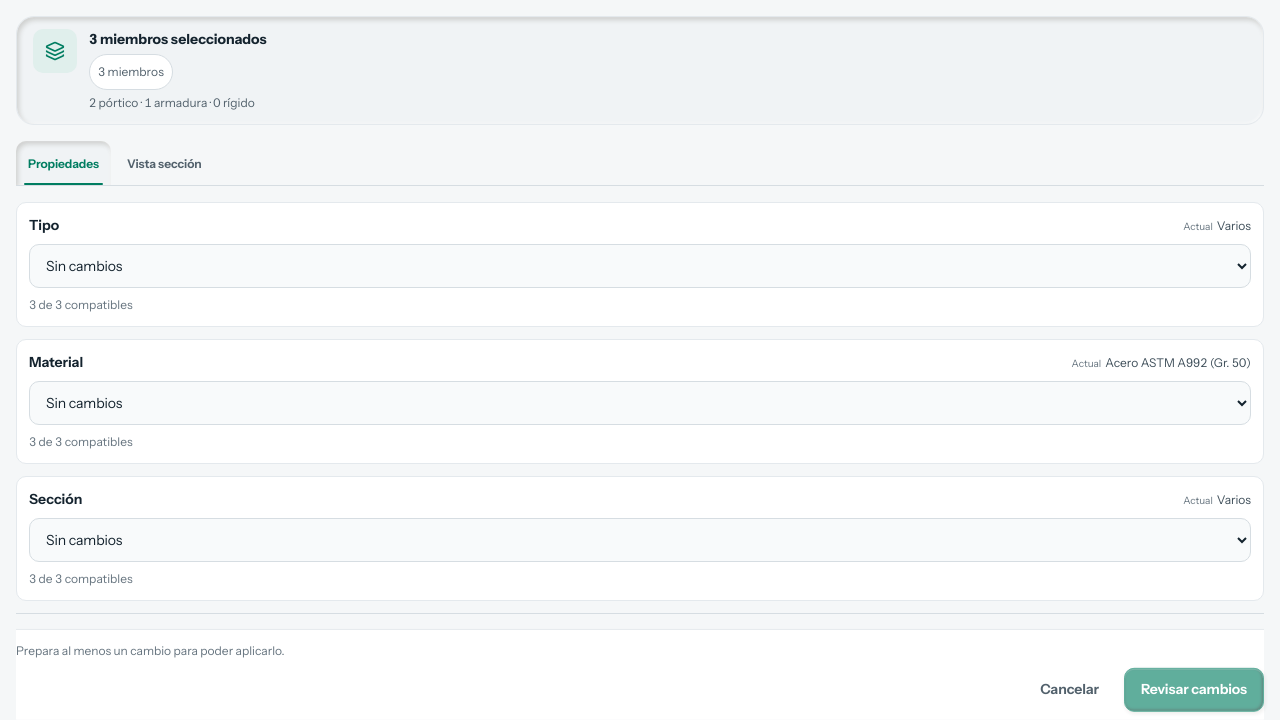
it: BulkEditPanel · review before applying › does not apply straight from the editing footer
The width and height of the screenshot is (1280, 720).
Select "W12x53" in the dropdown labelled "Sección" at (640, 540), box x1=29 y1=518 x2=1251 y2=562
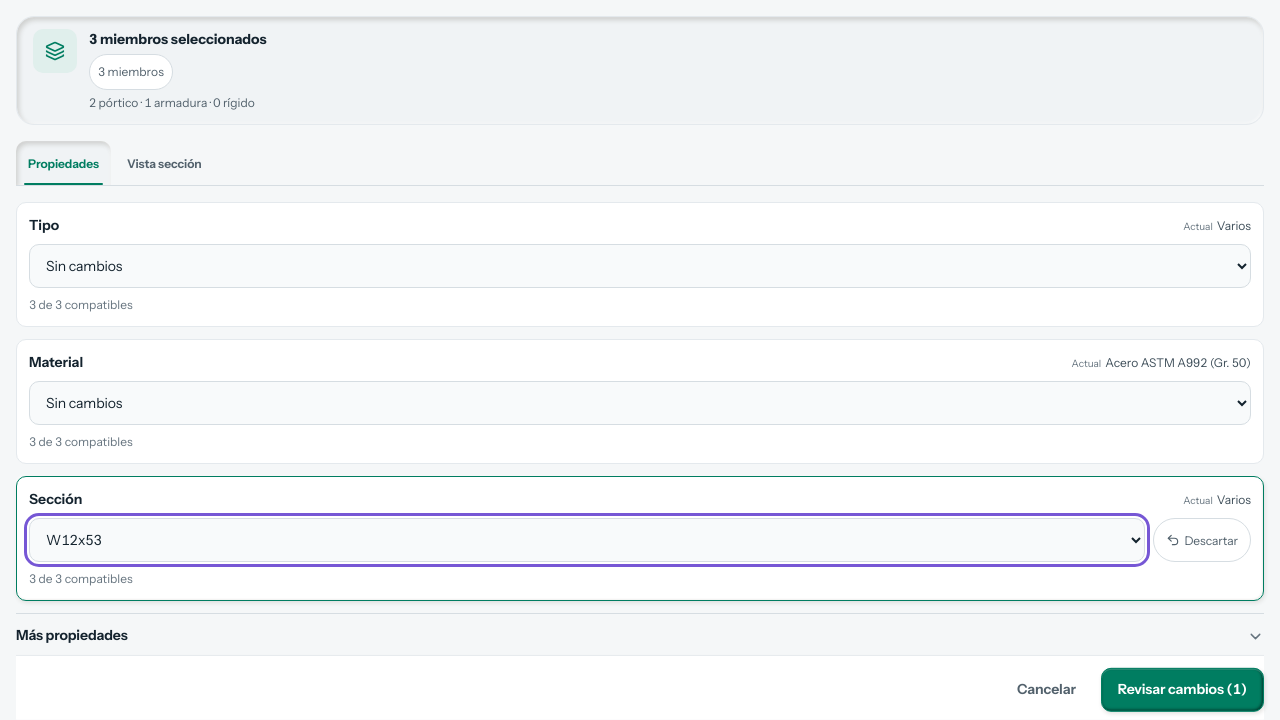
Click the button "Revisar cambios (1)" at (1182, 690), box x1=1101 y1=668 x2=1264 y2=712
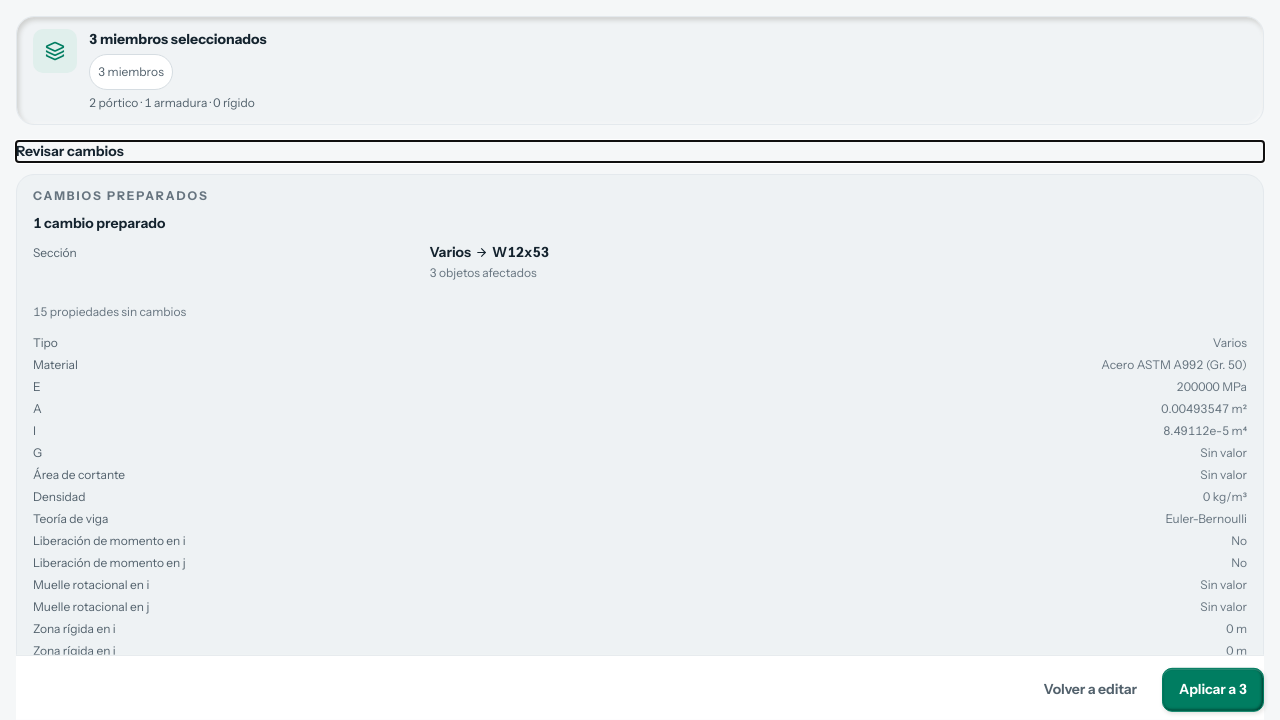
Expected: the element "Revisar cambios" is shown
